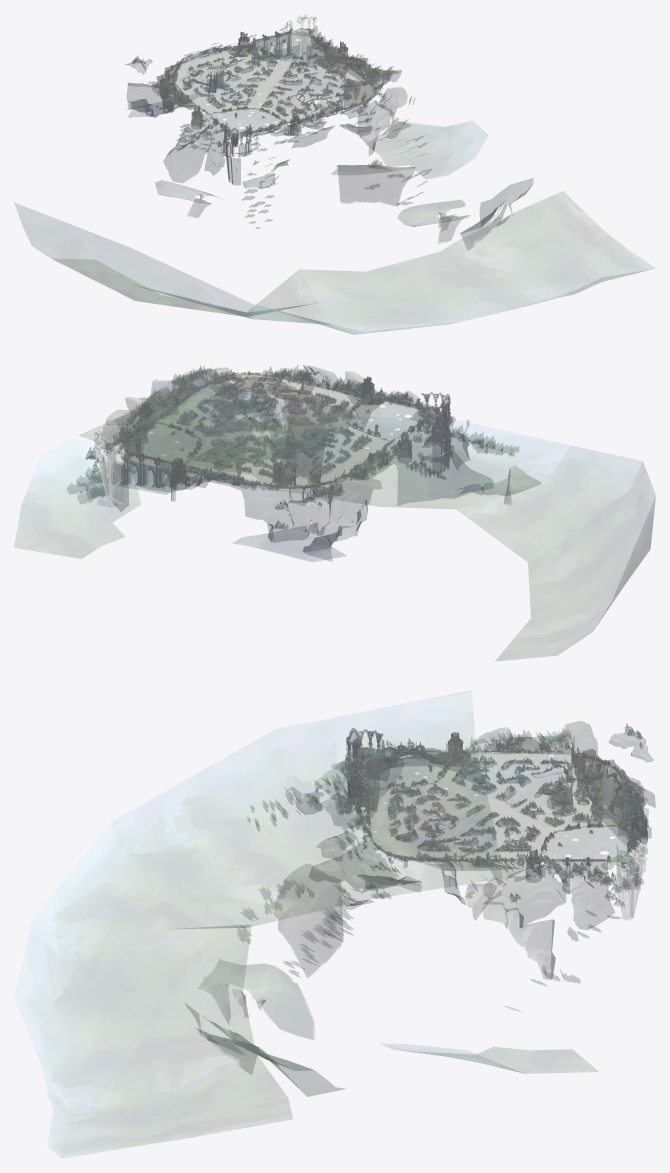
File: rift-opt.glb
The picture shows the model from 3 angles, top to bottom: view 1: azimuth 30°, elevation 25°; view 2: azimuth 150°, elevation 25°; view 3: azimuth 270°, elevation 25°; orthographic projection. The views are drawn at different scales.
Visible parts, largest first — view 1: SummonersRift; view 2: SummonersRift; view 3: SummonersRift.
Part boxes in pixels (x1,y1,x2,y2): SummonersRift: (15,15,654,334); SummonersRift: (14,365,655,661); SummonersRift: (14,690,655,1158).
Bounding box in the file's own units: 44083 × 13094 × 34246.
113 materials, 112 textured.
